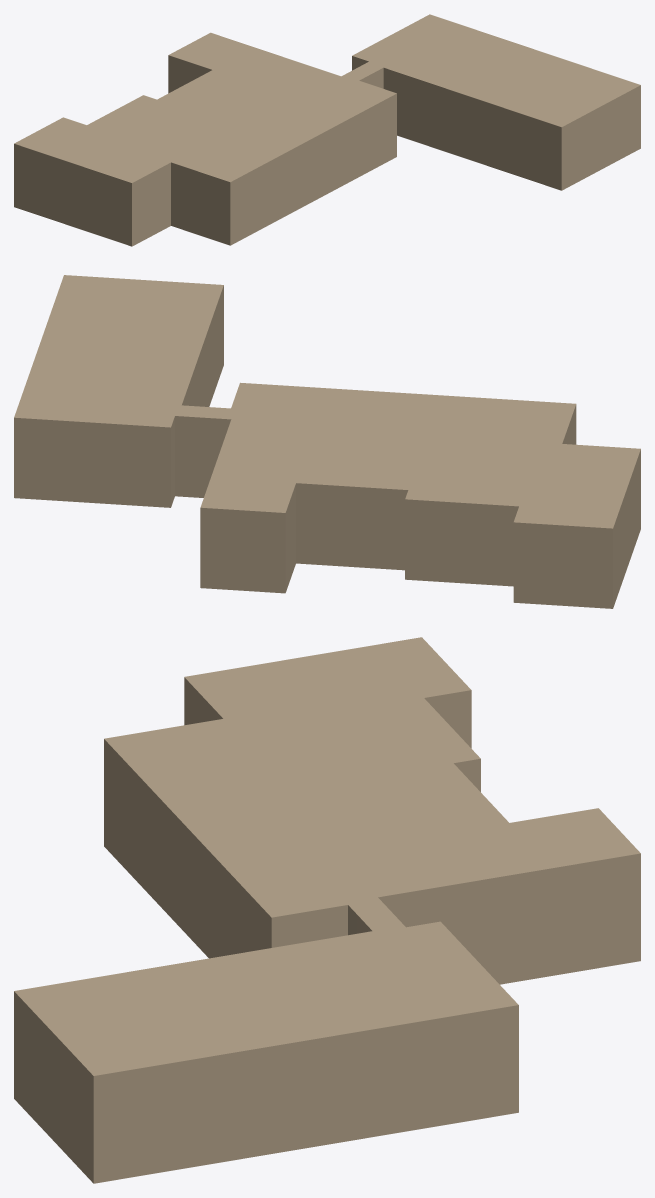
The model's file is bld_48831749.dae.
3 views of the same model, one above another, from view 1: azimuth 30°, elevation 25°; view 2: azimuth 150°, elevation 25°; view 3: azimuth 270°, elevation 25° (orthographic). The views are drawn at different scales.
Parts seen in each view (by area): view 1: bld_48831749; view 2: bld_48831749; view 3: bld_48831749.
Part boxes in pixels (x1,y1,x2,y2): bld_48831749: (14,14,640,246); bld_48831749: (14,275,640,608); bld_48831749: (14,637,640,1183).
Bounding box in the file's own units: 105 × 63.33 × 12.
